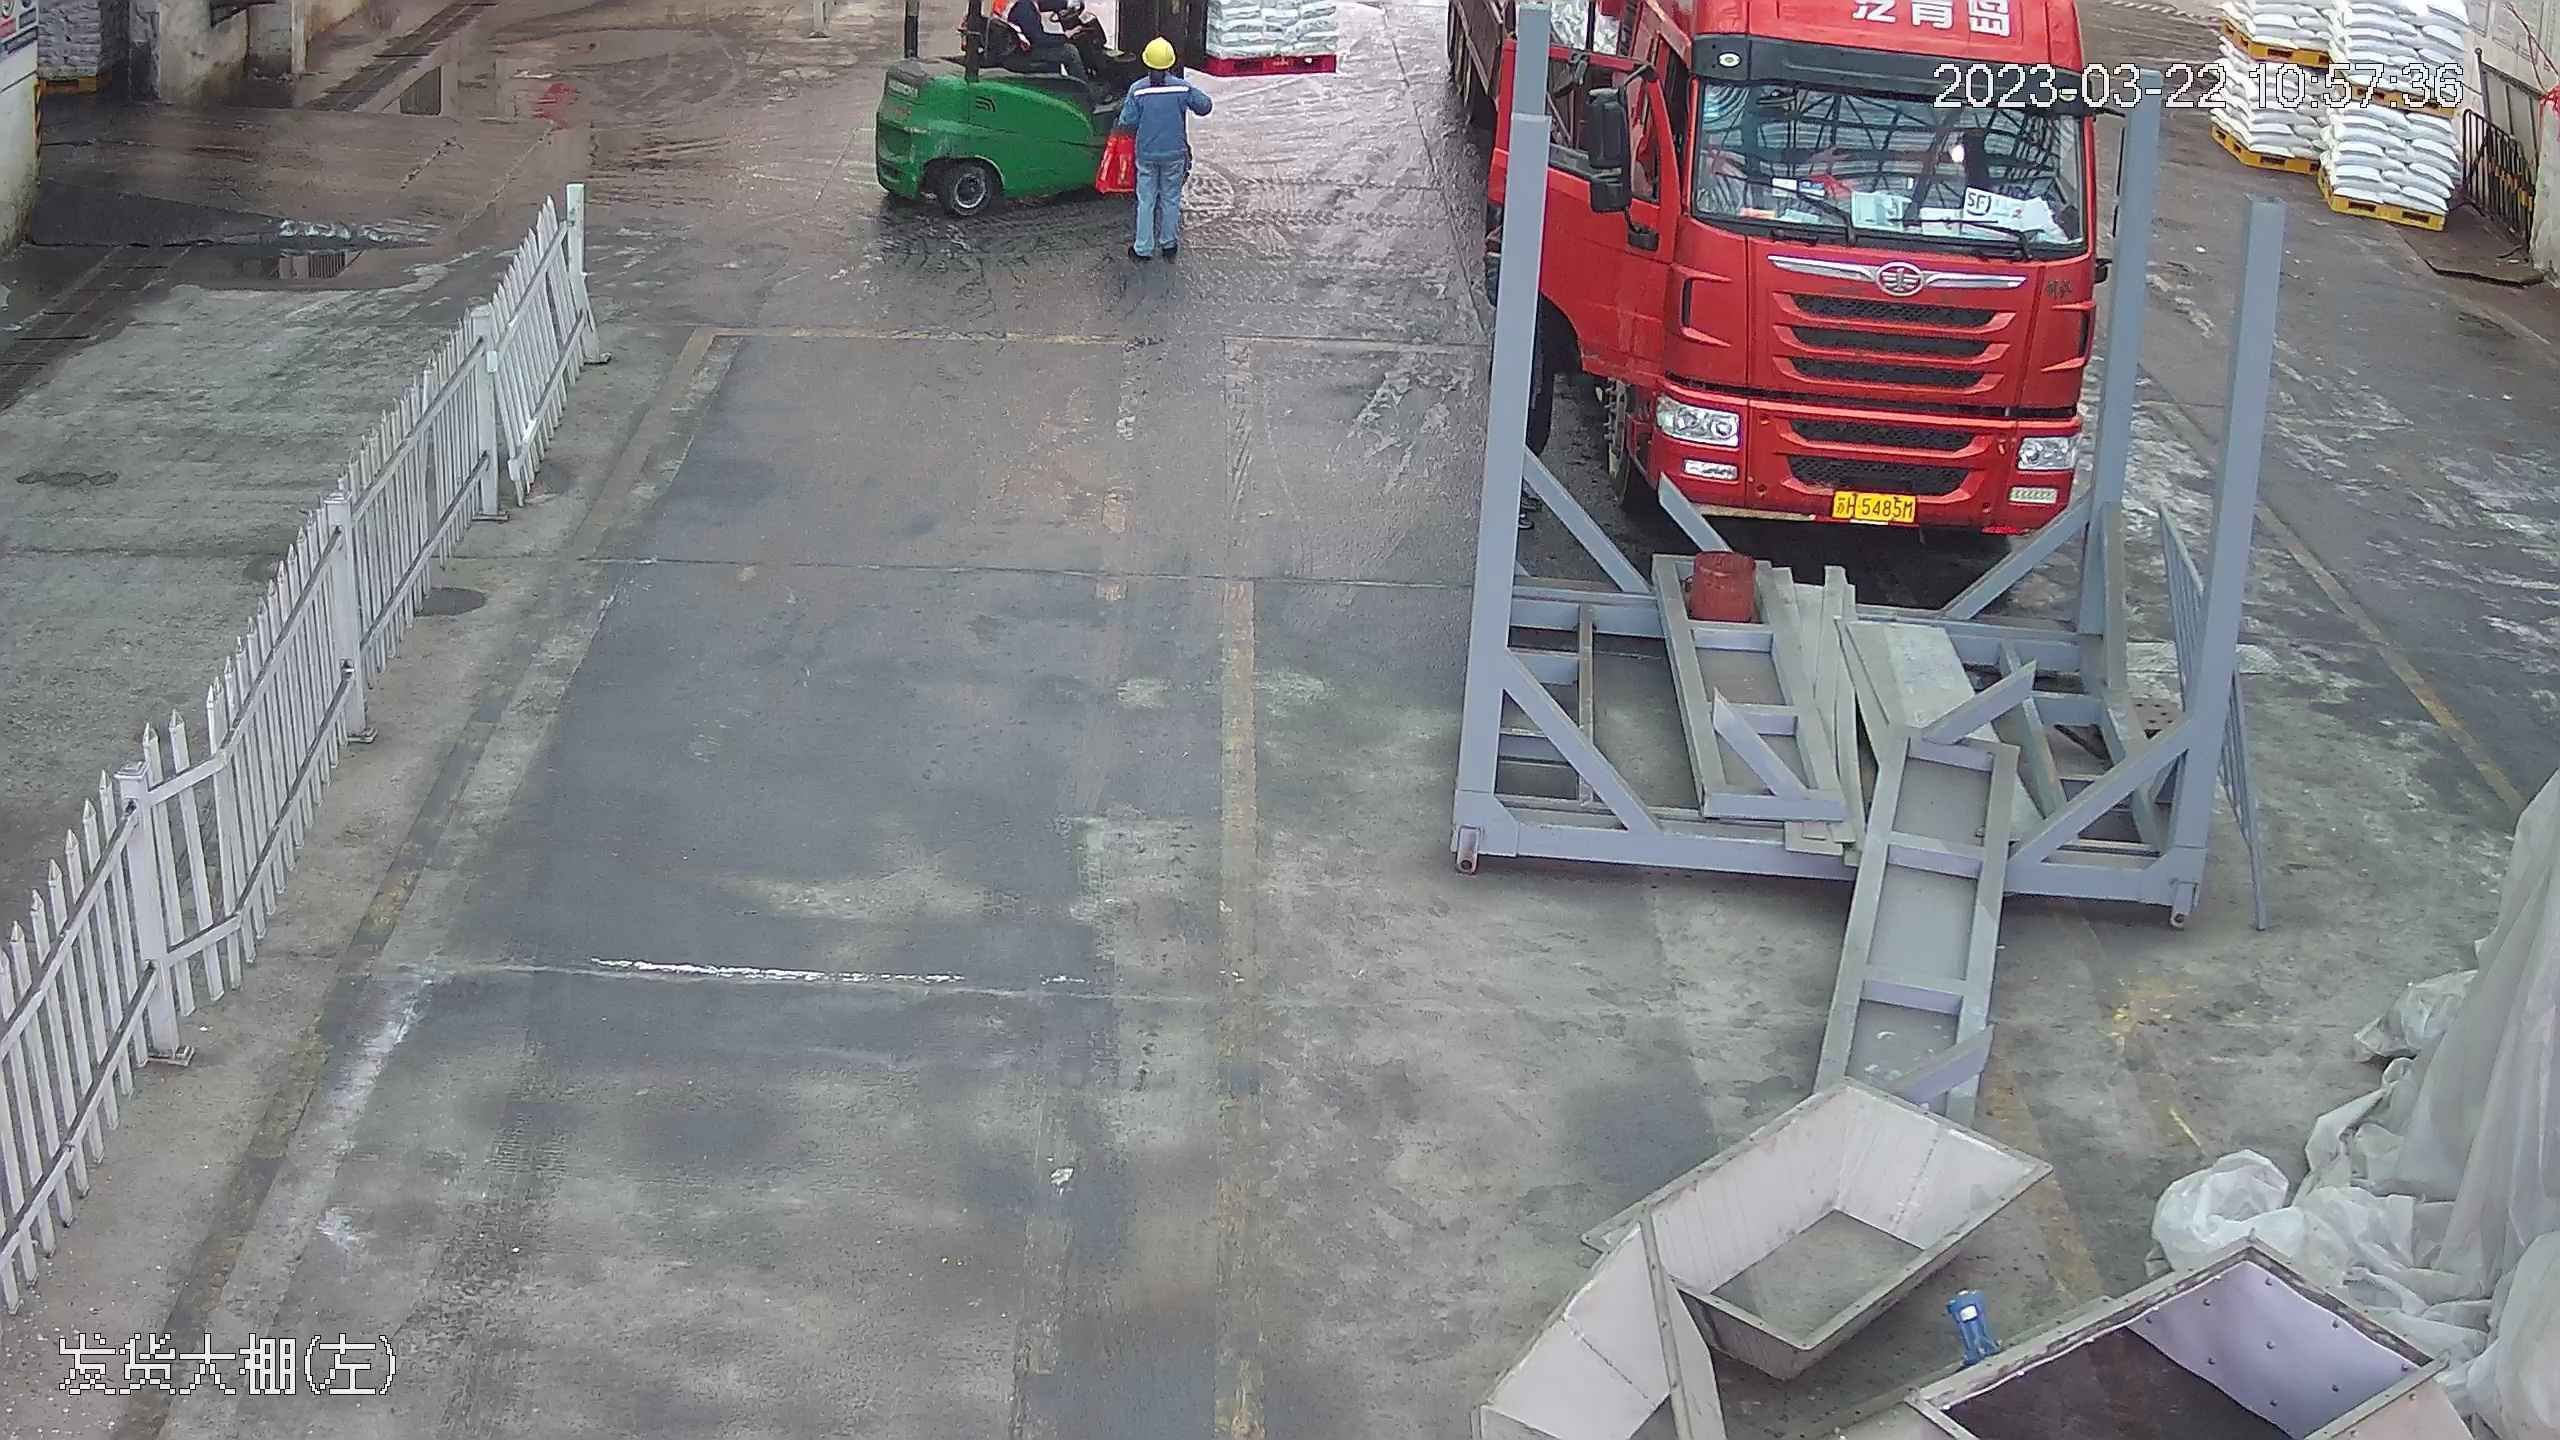head: (1122, 34, 1200, 108)
helmet: (1138, 34, 1181, 67)
people: (1115, 29, 1209, 268)
truck: (1478, 1, 2125, 541)
